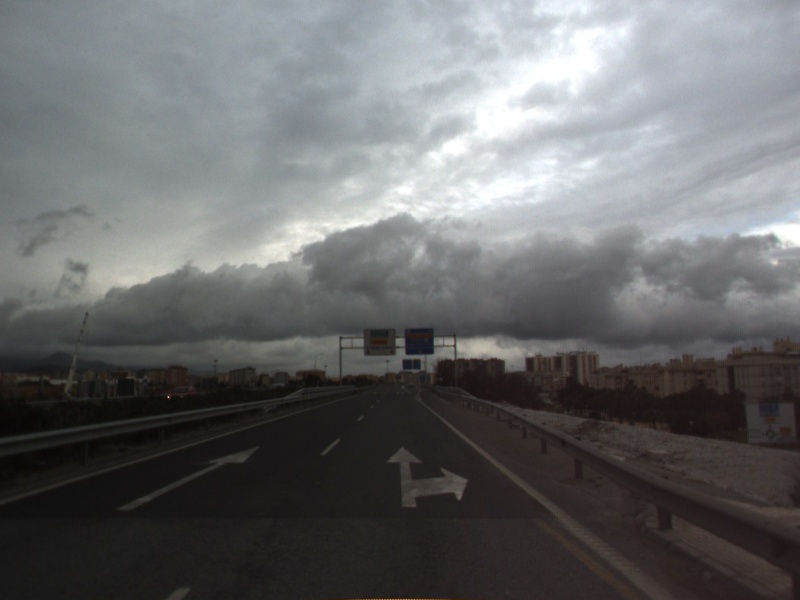STRAIGHT: (114, 444, 261, 514)
STRAIGHT_RIGHT: (384, 444, 471, 510)
